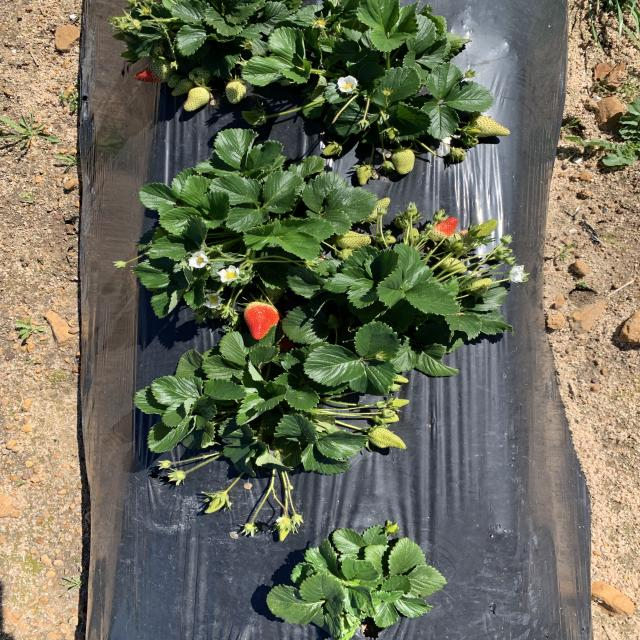unripe: (241, 299, 282, 340), (429, 217, 459, 241)
